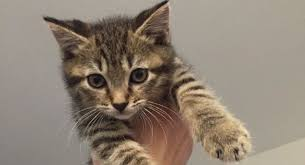kedi: (36, 1, 254, 165)
